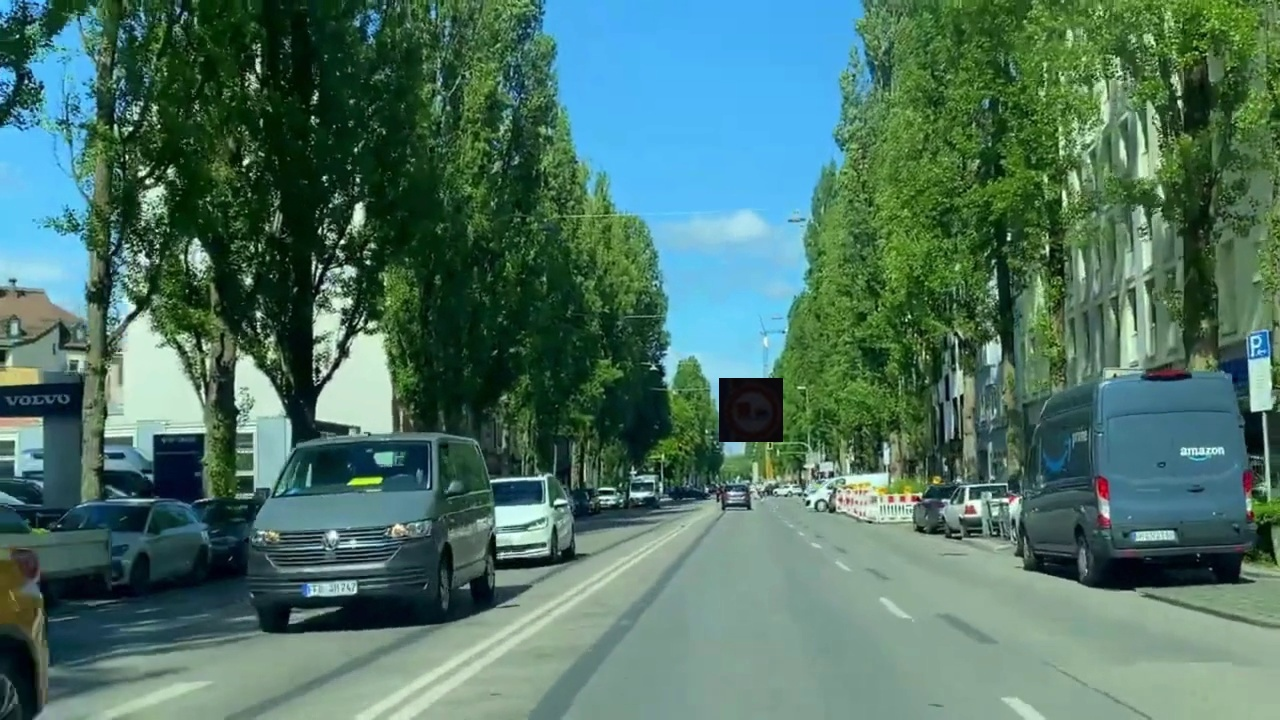No pass >3.5t: (719, 378, 783, 442)
